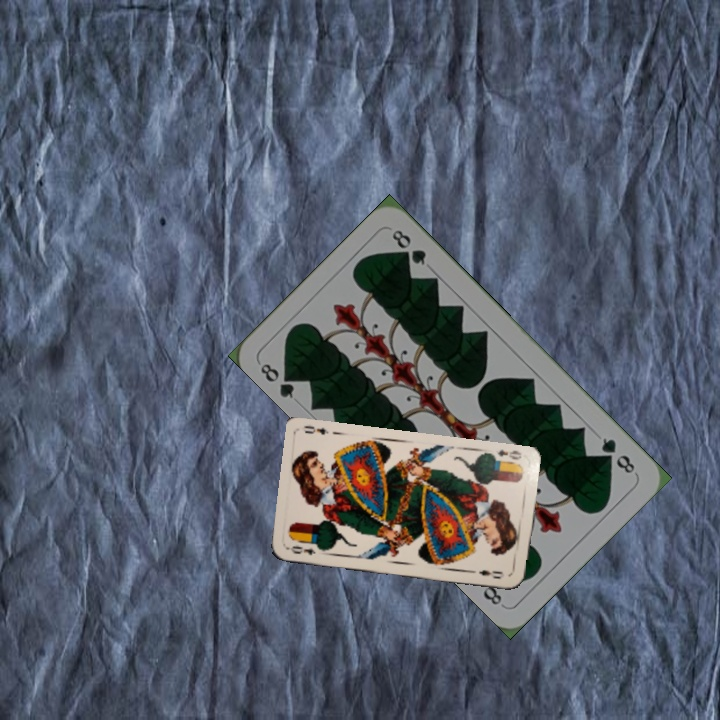EO: (493, 445, 524, 462), (284, 542, 318, 557)
G8: (256, 359, 301, 402), (597, 433, 639, 477)
